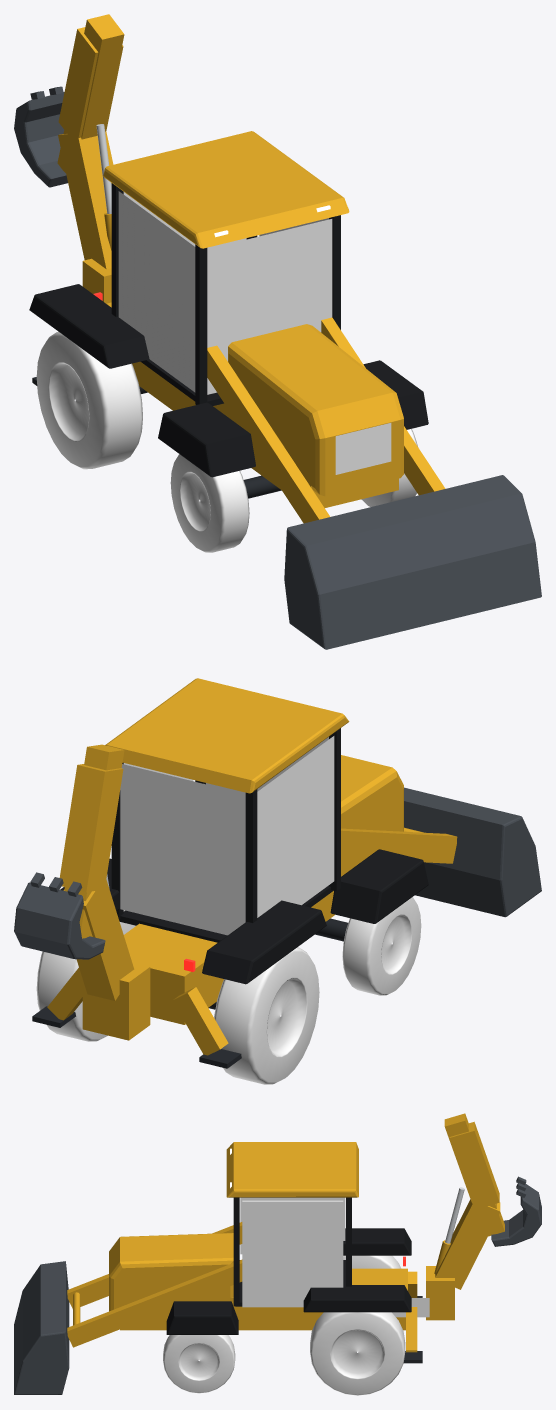
The model's file is equipment--backhoe.glb.
3 renders of one model, top to bottom at view 1: azimuth 30°, elevation 25°; view 2: azimuth 150°, elevation 25°; view 3: azimuth 270°, elevation 25°, orthographic. The views are drawn at different scales.
Visible parts, largest first — view 1: backhoe:shell, loaderBucket, axleRear, boom, loaderArms, axleFront, bucket, stick, swingFrame; view 2: backhoe:shell, axleRear, loaderBucket, boom, axleFront, bucket, swingFrame, loaderArms, stabilizerR, stabilizerL, stick; view 3: backhoe:shell, door, axleRear, loaderBucket, boom, loaderArms, axleFront, bucket, swingFrame, stick, stabilizerL.
Part boxes in pixels (left/top/right/bottom): backhoe:shell: left=29, top=131, right=428, bottom=507; loaderBucket: left=284, top=475, right=541, bottom=649; axleRear: left=36, top=331, right=142, bottom=469; boom: left=58, top=27, right=123, bottom=269; loaderArms: left=207, top=317, right=445, bottom=523; axleFront: left=170, top=429, right=417, bottom=552; bucket: left=14, top=86, right=67, bottom=187; stick: left=57, top=14, right=124, bottom=172; swingFrame: left=82, top=258, right=111, bottom=303; backhoe:shell: left=60, top=678, right=428, bottom=1024; axleRear: left=36, top=910, right=319, bottom=1084; loaderBucket: left=404, top=787, right=541, bottom=917; boom: left=59, top=764, right=134, bottom=1000; axleFront: left=342, top=897, right=421, bottom=995; bucket: left=14, top=872, right=105, bottom=959; swingFrame: left=82, top=962, right=150, bottom=1040; loaderArms: left=341, top=827, right=457, bottom=863; stabilizerR: left=172, top=987, right=241, bottom=1068; stabilizerL: left=32, top=968, right=82, bottom=1027; stick: left=64, top=744, right=124, bottom=938; backhoe:shell: left=109, top=1142, right=429, bottom=1334; door: left=242, top=1200, right=343, bottom=1307; axleRear: left=310, top=1255, right=405, bottom=1395; loaderBucket: left=14, top=1261, right=69, bottom=1394; boom: left=434, top=1121, right=500, bottom=1289; loaderArms: left=67, top=1222, right=242, bottom=1347; axleFront: left=163, top=1335, right=235, bottom=1393; bucket: left=491, top=1176, right=541, bottom=1246; swingFrame: left=426, top=1266, right=454, bottom=1320; stick: left=444, top=1113, right=504, bottom=1236; stabilizerL: left=403, top=1307, right=422, bottom=1363.
Bounding box in the file's own units: 2.36 × 3.75 × 7.33.
